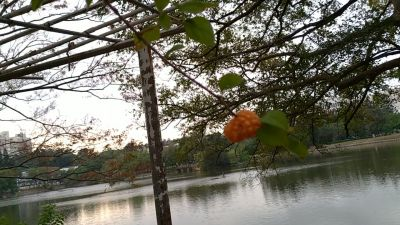eggs: (221, 109, 265, 143)
